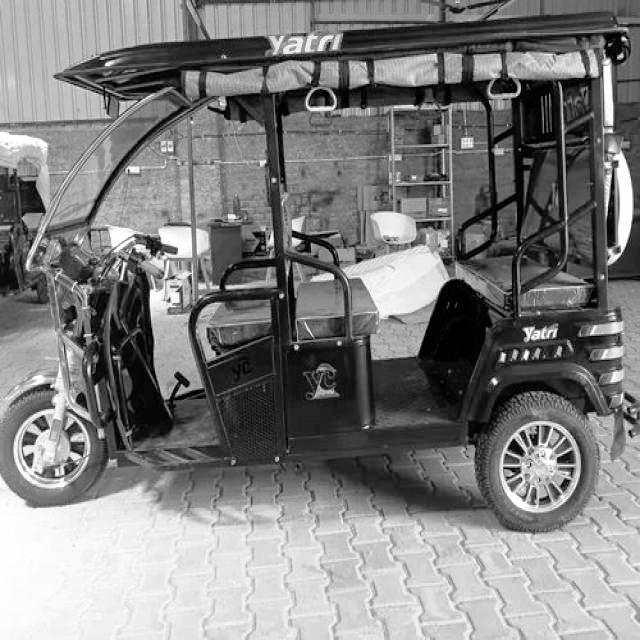Toto: (2, 13, 626, 552)
